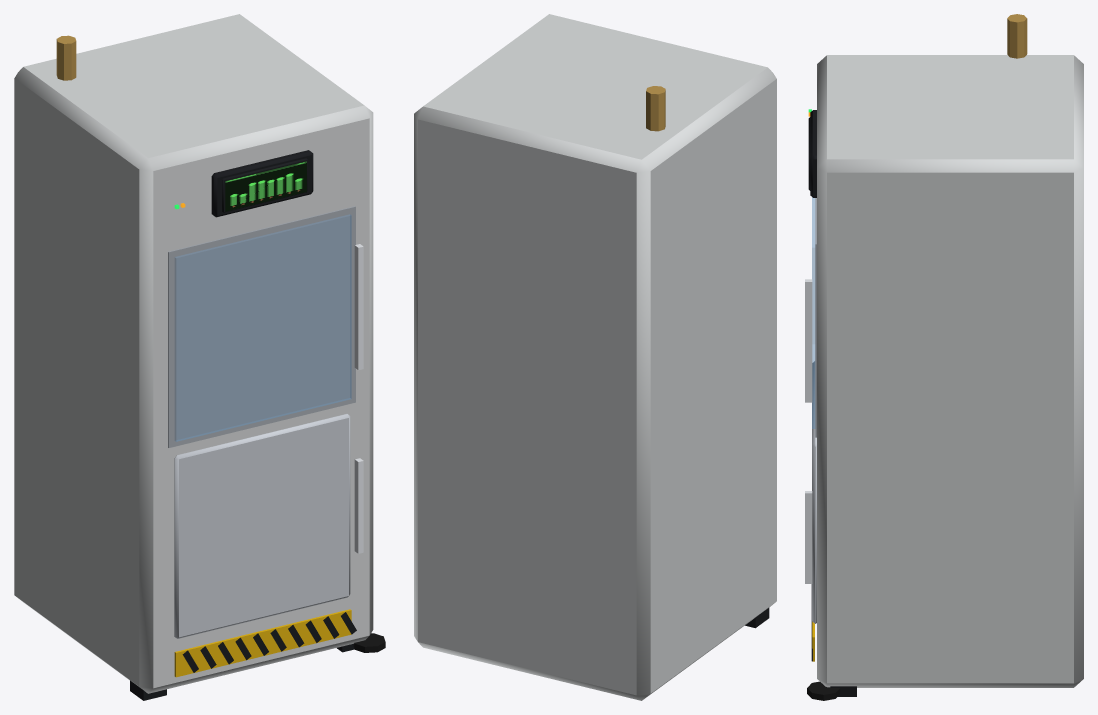
File: analyzer_co2_incubator.glb
The picture shows the model from 3 angles, left to right: view 1: azimuth 30°, elevation 25°; view 2: azimuth 150°, elevation 25°; view 3: azimuth 270°, elevation 25°; orthographic projection. The views are drawn at different scales.
Parts seen in each view (by area): view 1: analyzer_co2_incubator; view 2: analyzer_co2_incubator; view 3: analyzer_co2_incubator.
Boxes of the visible parts, x1,y1,x2,y2 form: analyzer_co2_incubator: (14,14,385,700); analyzer_co2_incubator: (414,14,776,700); analyzer_co2_incubator: (805,14,1083,700).
Bounding box in the file's own units: 0.83 × 1.92 × 0.836.
Materials: 13 (1 with a texture image).
